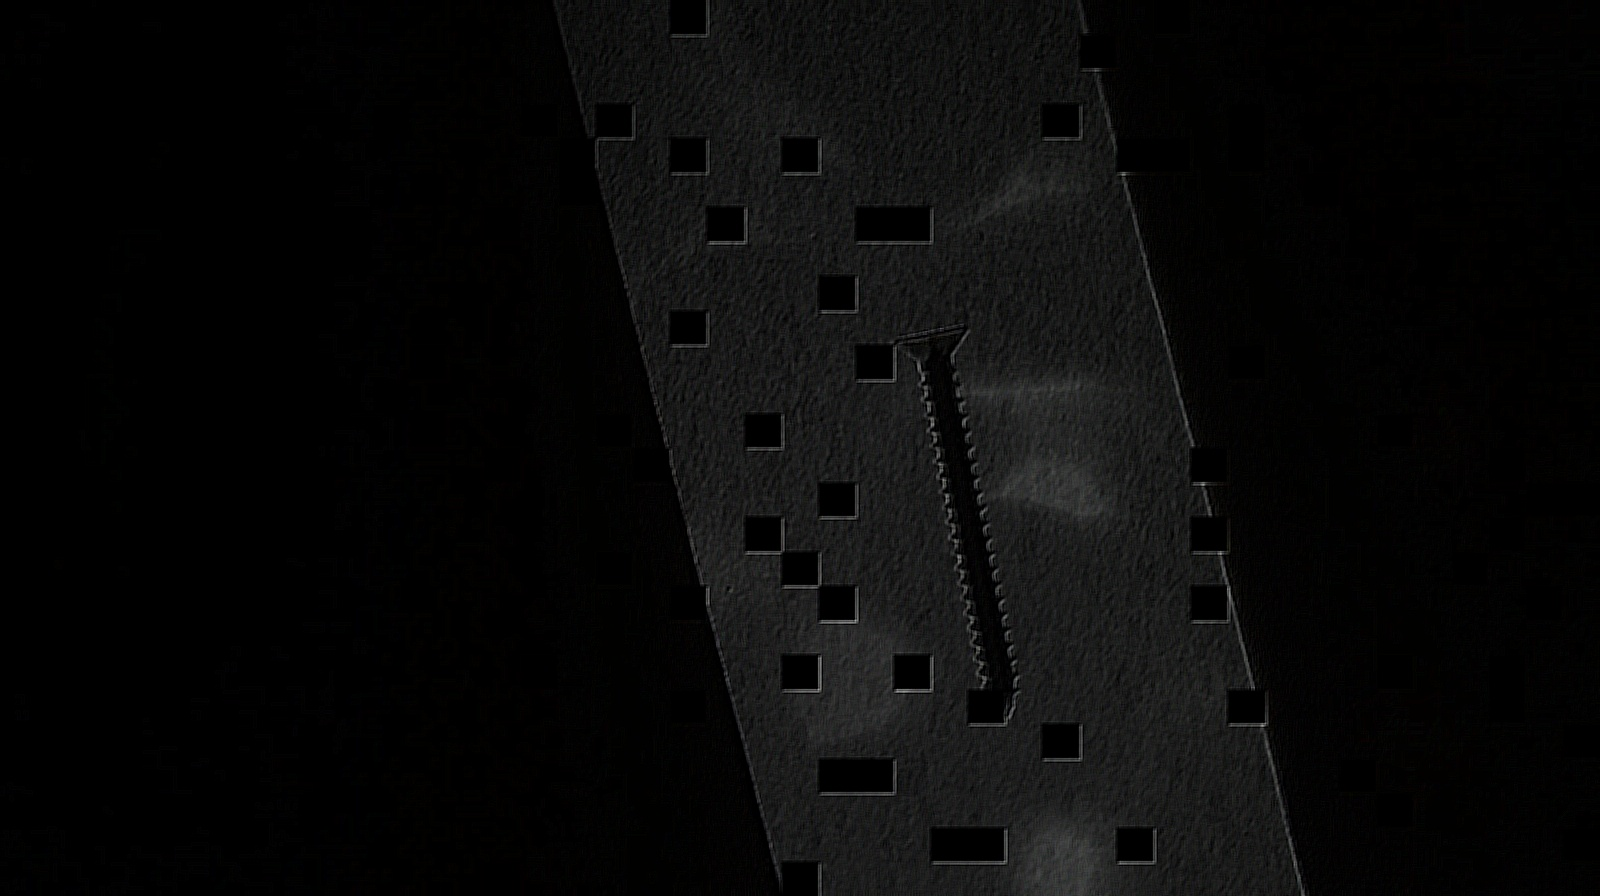S002: (873, 318, 1048, 722)
